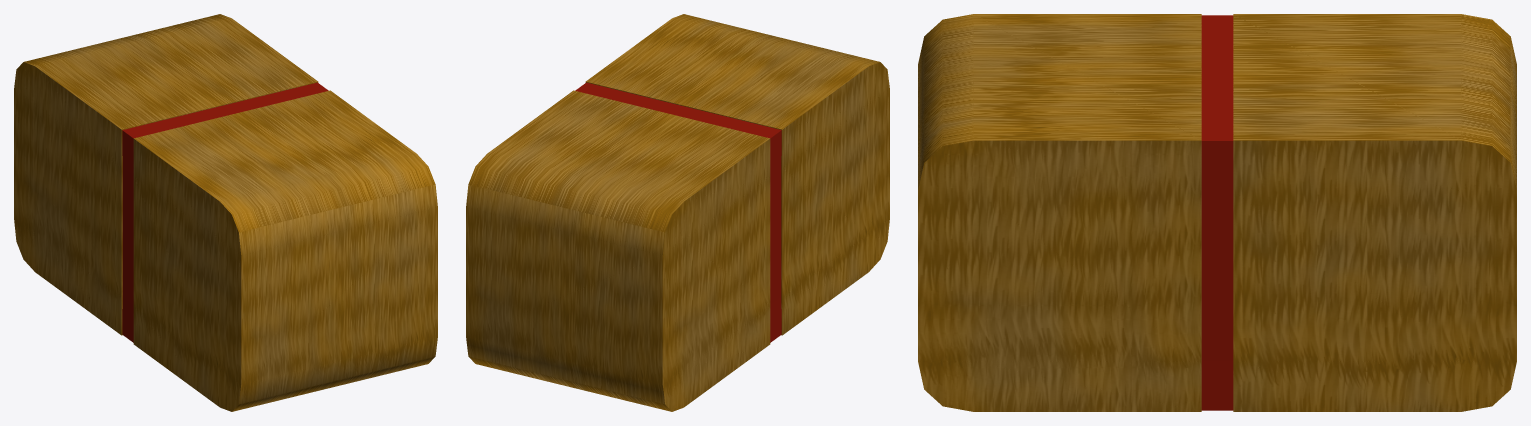
File: hay_01.FBX
3 renders of one model, left to right at view 1: azimuth 30°, elevation 25°; view 2: azimuth 150°, elevation 25°; view 3: azimuth 270°, elevation 25°, orthographic. The views are drawn at different scales.
Parts seen in each view (by area): view 1: Hay; view 2: Hay; view 3: Hay.
Boxes of the visible parts, x1=… form: Hay: x1=14, y1=14, x2=437, y2=411; Hay: x1=466, y1=14, x2=889, y2=411; Hay: x1=918, y1=14, x2=1516, y2=411.
Bounding box in the file's own units: 20 × 20 × 40.
